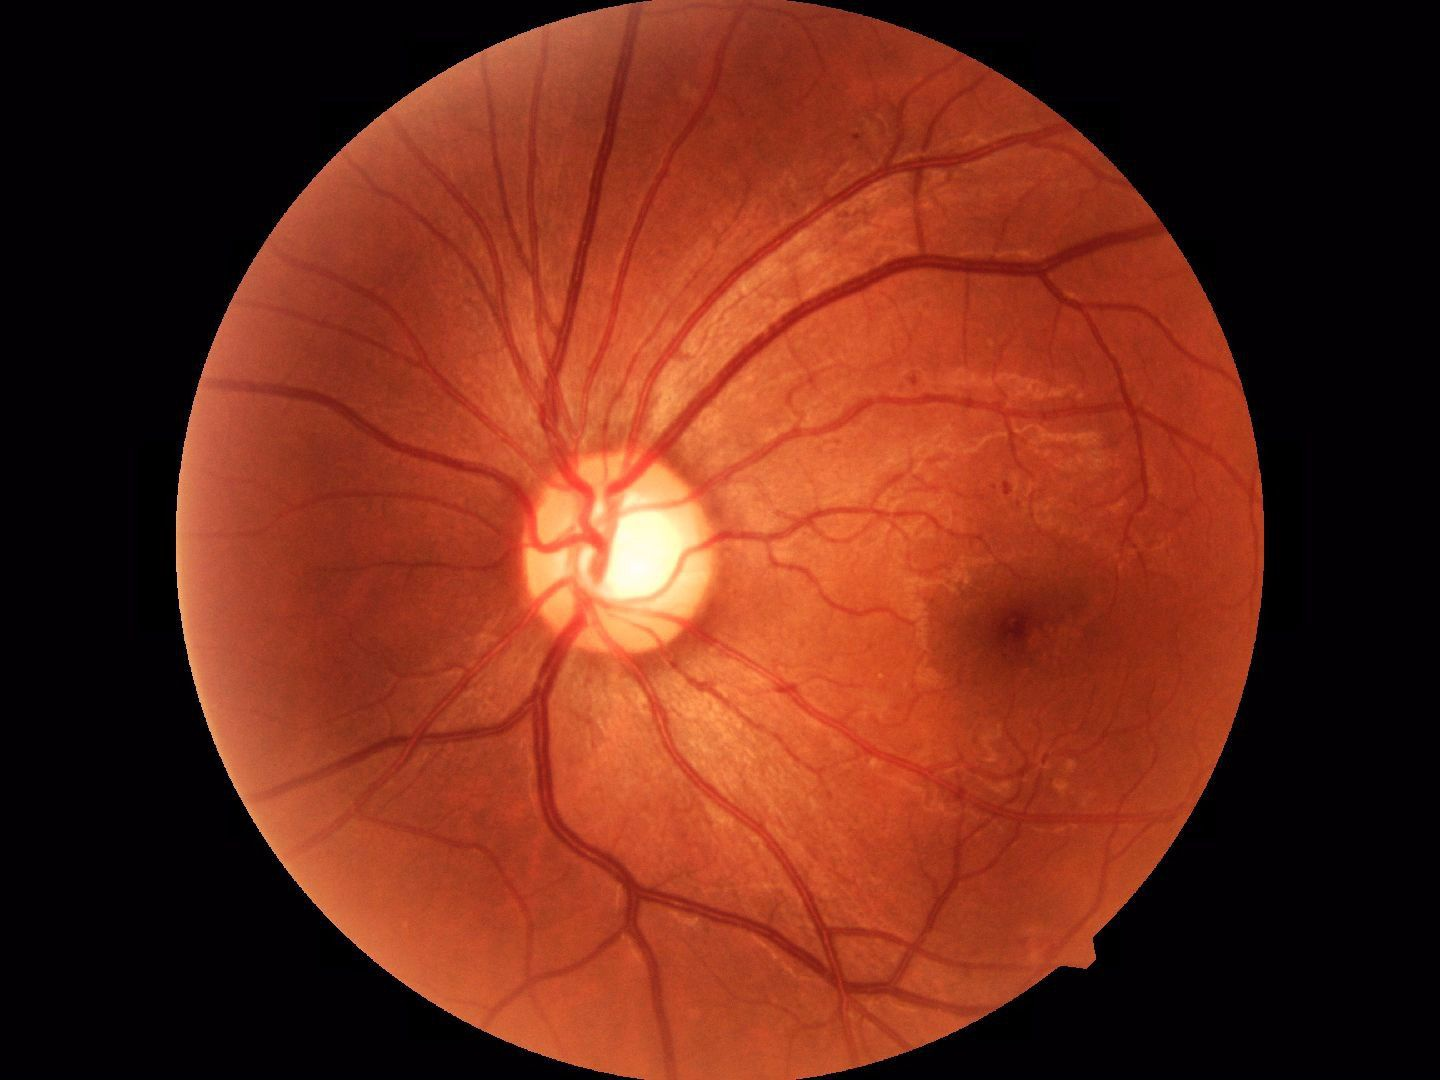Hemorrhages: (927, 583, 1119, 704)
Optic-Disc: (532, 458, 719, 653)
Venules: (451, 123, 1076, 422), (476, 693, 653, 933)
